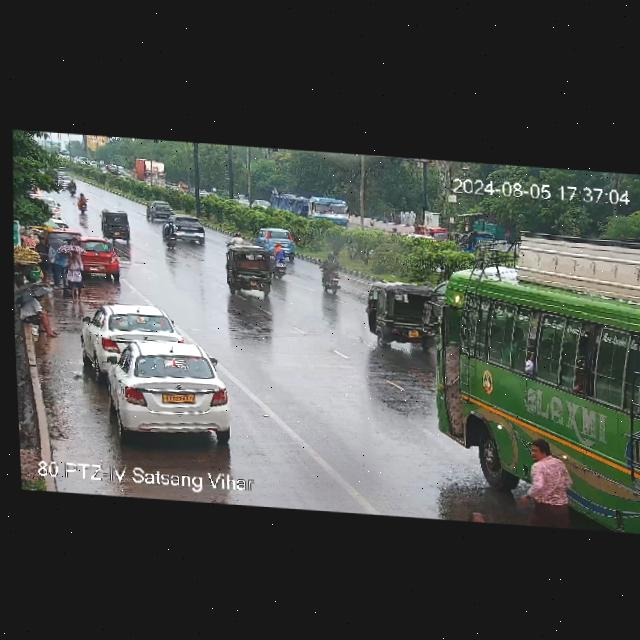bus: (437, 234, 640, 522)
car: (87, 335, 236, 444), (81, 302, 180, 367), (365, 287, 438, 353), (225, 249, 272, 294), (80, 242, 121, 277), (165, 220, 211, 243), (101, 210, 132, 238), (30, 196, 67, 217), (417, 225, 452, 244), (147, 201, 178, 220), (406, 229, 437, 244), (252, 198, 270, 212), (178, 179, 190, 192)
motorcycle: (315, 257, 344, 292), (272, 244, 299, 279), (74, 192, 91, 214)
person: (517, 432, 577, 526), (15, 286, 59, 335), (34, 235, 69, 284), (59, 248, 88, 290)
truck: (270, 191, 351, 226), (131, 159, 170, 188)
